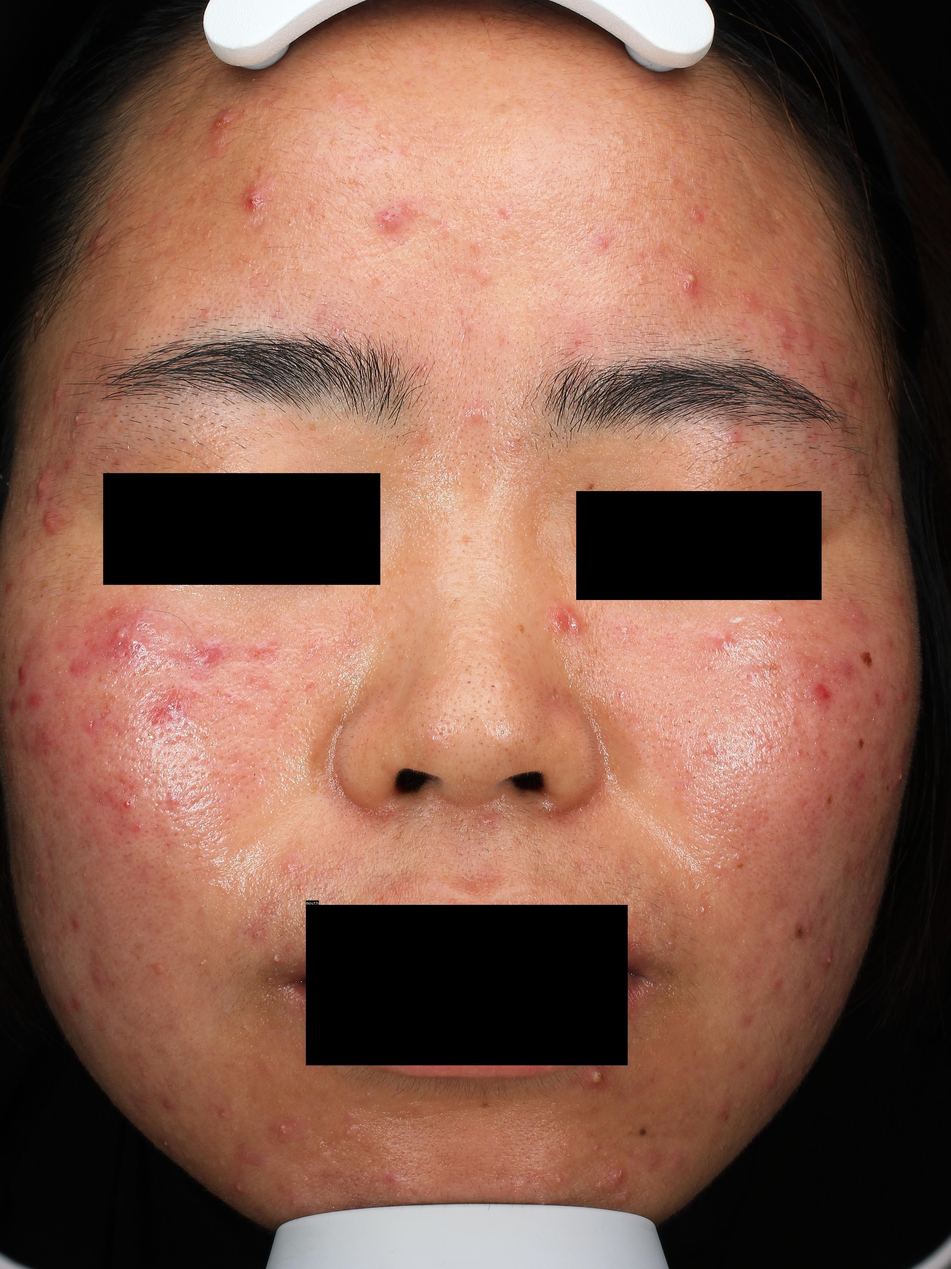atrophic_scar: (718, 125, 789, 235), (41, 826, 57, 875), (701, 742, 718, 764), (162, 733, 187, 747), (98, 703, 111, 721), (817, 747, 831, 759), (106, 754, 115, 766), (118, 778, 126, 787), (802, 800, 808, 809), (90, 719, 95, 728)
closed_comedo: (634, 273, 648, 288), (472, 240, 484, 252), (668, 174, 679, 186), (111, 332, 122, 340), (716, 863, 725, 871), (24, 503, 31, 513), (575, 668, 583, 676), (218, 1159, 225, 1167), (378, 133, 386, 140), (668, 940, 675, 948), (330, 138, 337, 145), (82, 871, 87, 879), (368, 269, 374, 275)
hypertrophic_scar: (318, 1150, 341, 1169), (616, 686, 626, 692)
melasma: (478, 1101, 493, 1110), (517, 622, 526, 635)
nevus: (857, 652, 874, 669), (793, 922, 807, 940), (585, 481, 597, 491), (856, 737, 865, 750), (826, 793, 833, 807), (638, 1127, 647, 1137), (886, 785, 890, 791)
open_comedo: (407, 475, 413, 482), (466, 679, 472, 686), (587, 103, 593, 109), (490, 684, 496, 689), (470, 716, 475, 722), (500, 729, 505, 735), (231, 1060, 236, 1065), (147, 1012, 151, 1018), (226, 1073, 231, 1077), (188, 1080, 193, 1084), (468, 664, 472, 668), (686, 720, 691, 723), (232, 1126, 236, 1129), (169, 1085, 173, 1088)
papule: (547, 604, 583, 636), (189, 638, 225, 668), (378, 208, 406, 230), (244, 184, 265, 210), (809, 684, 832, 706), (605, 1167, 626, 1190), (667, 1147, 685, 1169), (737, 663, 761, 679), (589, 232, 610, 250), (34, 473, 47, 501), (472, 267, 493, 284), (41, 512, 58, 531), (714, 633, 732, 649), (884, 492, 895, 518), (250, 643, 269, 657), (52, 382, 64, 404), (616, 1190, 633, 1205), (725, 429, 742, 444), (400, 201, 417, 216), (504, 438, 522, 452), (717, 1102, 732, 1118), (28, 692, 43, 708), (213, 114, 229, 129), (209, 137, 225, 152), (17, 664, 28, 683), (897, 689, 910, 705), (106, 192, 119, 208), (743, 294, 757, 308), (691, 208, 704, 222), (92, 233, 106, 246), (414, 431, 428, 444), (239, 1149, 253, 1162), (840, 662, 853, 676), (343, 1110, 356, 1123), (332, 90, 346, 102), (3, 582, 15, 596), (94, 971, 105, 986), (9, 698, 18, 716), (216, 1107, 228, 1120), (870, 893, 879, 910), (153, 963, 165, 975), (778, 325, 790, 337), (385, 1172, 397, 1184), (498, 208, 511, 219), (202, 308, 213, 321), (39, 729, 50, 742), (63, 459, 73, 472), (63, 1002, 72, 1016), (72, 998, 81, 1012), (124, 797, 134, 809), (766, 1076, 776, 1088), (334, 326, 345, 336), (37, 869, 46, 881), (838, 995, 845, 1010), (774, 979, 783, 990), (131, 823, 142, 832), (70, 665, 79, 676), (253, 929, 262, 939), (803, 339, 812, 349), (304, 679, 313, 689), (72, 920, 80, 930), (169, 795, 177, 805), (805, 979, 812, 990), (795, 749, 804, 757), (851, 375, 858, 385), (699, 905, 706, 914), (797, 1070, 804, 1078), (164, 1102, 170, 1110), (859, 398, 864, 407)
pustule: (677, 268, 702, 297), (168, 686, 194, 711), (466, 404, 487, 424), (585, 1068, 607, 1086), (438, 220, 455, 239), (277, 1123, 295, 1140), (73, 409, 86, 427), (893, 767, 904, 787), (113, 626, 128, 640), (823, 951, 834, 968), (804, 920, 815, 936), (233, 1180, 246, 1193), (161, 1138, 172, 1150), (732, 851, 742, 863), (344, 1127, 354, 1138), (554, 1174, 564, 1185), (482, 815, 492, 825), (273, 953, 281, 965), (284, 862, 294, 871), (621, 625, 630, 634), (776, 615, 786, 623), (298, 883, 305, 891), (555, 693, 561, 701), (551, 695, 556, 702)
